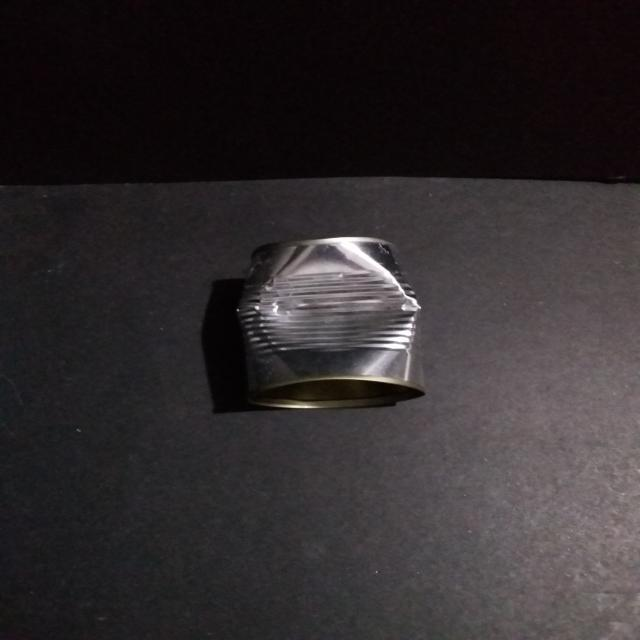metal-can: (230, 233, 432, 412)
